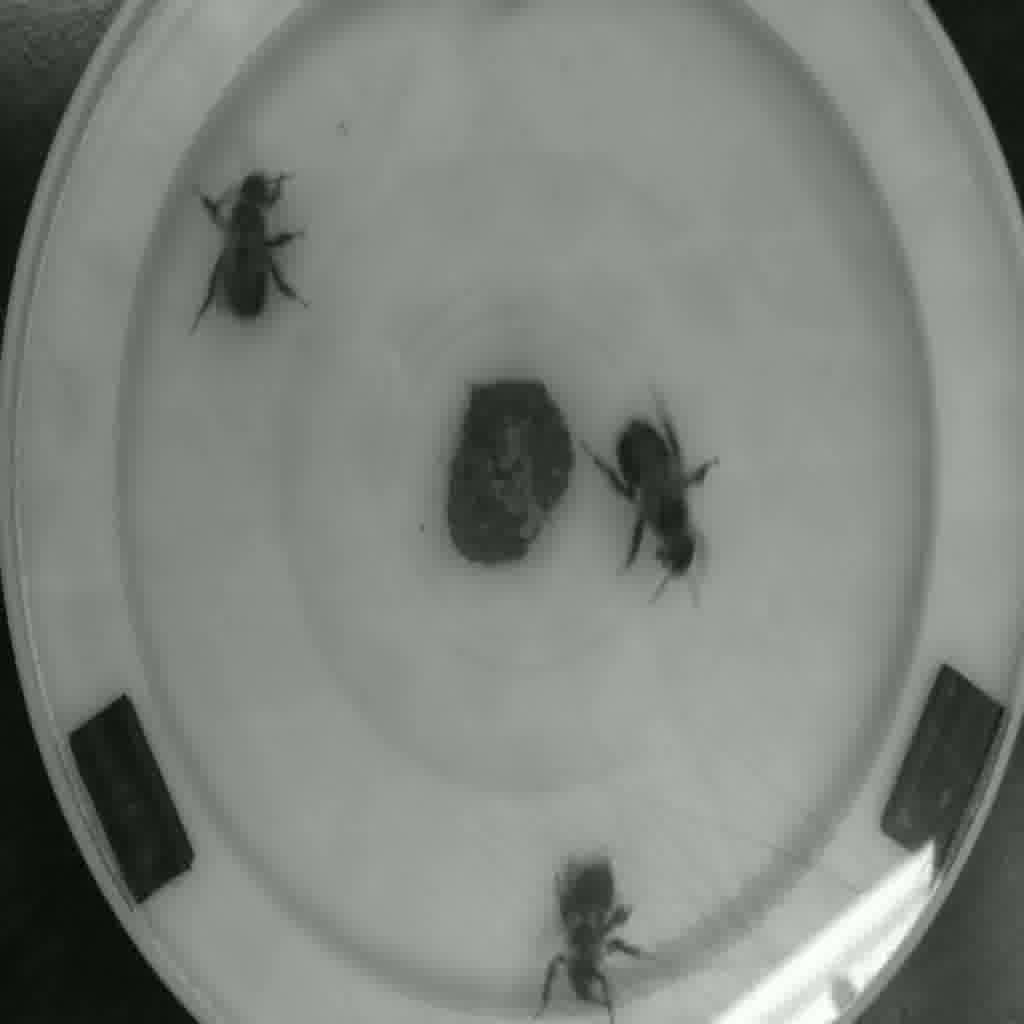bee: (591, 417, 727, 585), (539, 861, 651, 1009), (193, 178, 301, 327)
